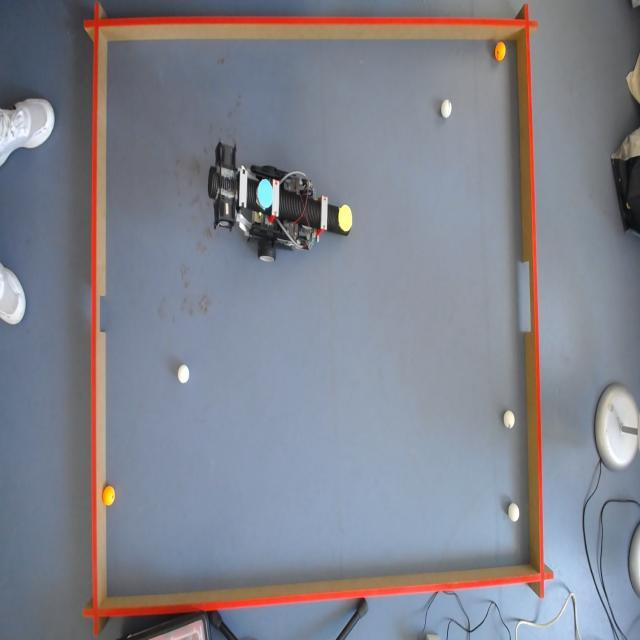orange: (102, 484, 115, 506), (496, 44, 508, 60)
robot: (210, 144, 352, 266)
robot-front: (336, 208, 353, 234)
robot-rear: (256, 178, 276, 212)
white: (508, 502, 520, 524), (178, 364, 191, 384), (504, 408, 516, 428), (441, 98, 452, 118)
